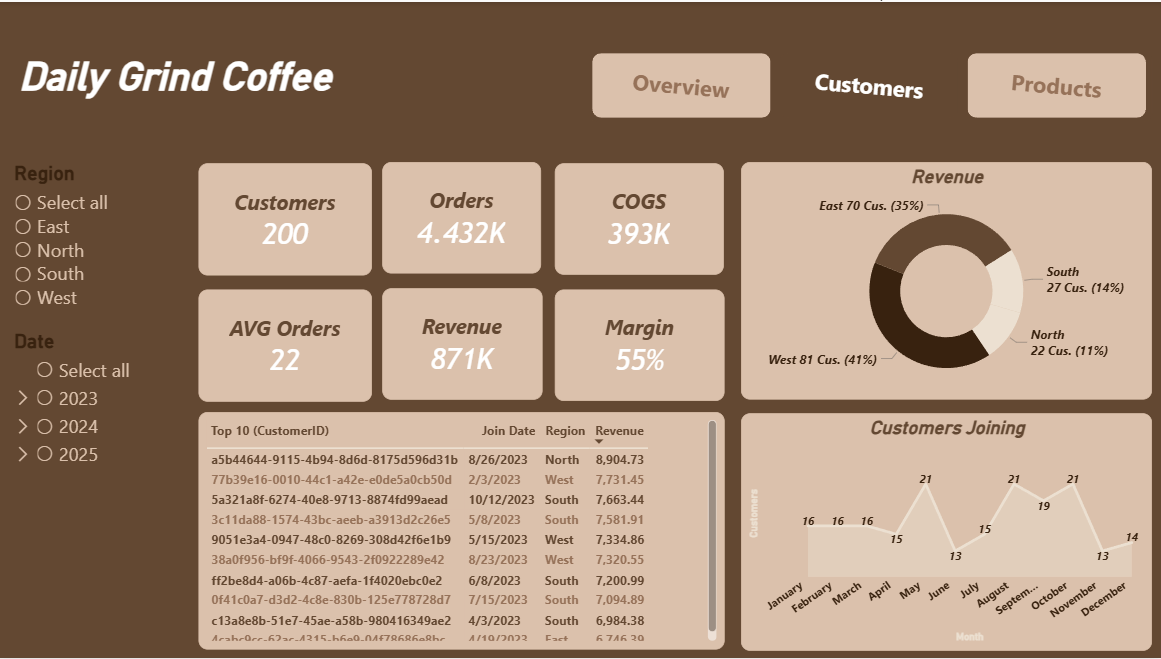

What the dashboard file says about the page in this screenshot:
{"tool":"powerbi","page":{"name":"Customers","canvas":[1280,720],"ordinal":1},"visuals":[{"type":"cardVisual","fields":{"Data":["Count(Daily_Grind_Coffee.CustomerID)"]},"box":[222.3,177,190.7,123.5],"z":2000},{"type":"cardVisual","fields":{"Data":["CountNonNull(Daily_Grind_Coffee.OrderID)"]},"box":[424,175.6,174.3,122.1],"z":3000},{"type":"cardVisual","fields":{"Data":["Daily_Grind_Coffee.AVG Orders"]},"box":[222.3,315.6,190.7,123.5],"z":4000},{"type":"cardVisual","fields":{"Data":["Sum(Daily_Grind_Coffee.Cleaned Revenue)"]},"box":[424,314.2,175.6,122.1],"z":5000},{"type":"cardVisual","fields":{"Data":["Sum(Daily_Grind_Coffee.COGS)"]},"box":[613.4,177,185.2,122.1],"z":6000},{"type":"cardVisual","fields":{"Data":["Daily_Grind_Coffee.Margin"]},"box":[613.4,315.6,186.6,122.1],"z":7000},{"type":"pivotTable","fields":{"Values":["Min(Daily_Grind_Coffee.CustomerJoinDate)","Min(Daily_Grind_Coffee.Region)","Sum(Daily_Grind_Coffee.Cleaned Revenue)"],"Rows":["Daily_Grind_Coffee.CustomerID"]},"box":[222.3,450.1,577.7,260.7],"z":8000},{"type":"donutChart","title":"Revenue","fields":{"Category":["Daily_Grind_Coffee.Region"],"Y":["Count(Daily_Grind_Coffee.CustomerID)"]},"box":[817.9,176.2,451.2,260.7],"z":9000},{"type":"areaChart","title":"Customers Joining","fields":{"Category":["Daily_Grind_Coffee.CustomerJoinDate.Variation.Date Hierarchy.Year","Daily_Grind_Coffee.CustomerJoinDate.Variation.Date Hierarchy.Quarter","Daily_Grind_Coffee.CustomerJoinDate.Variation.Date Hierarchy.Month","Daily_Grind_Coffee.CustomerJoinDate.Variation.Date Hierarchy.Day"],"Y":["Count(Daily_Grind_Coffee.CustomerID)"]},"box":[817.9,451.2,451.2,260.7],"z":10000},{"type":"pageNavigator","title":"n","box":[650.4,52.1,618.9,79.6],"z":11000},{"type":"textbox","box":[20.6,52.1,558.5,149.6],"z":12000},{"type":"listSlicer","fields":{"Values":["Daily_Grind_Coffee.Region"]},"box":[15.1,175.6,222.3,273.1],"z":12001},{"type":"listSlicer","title":"Date","fields":{"Values":["Daily_Grind_Coffee.OrderDate.Variation.Date Hierarchy.Year","Daily_Grind_Coffee.OrderDate.Variation.Date Hierarchy.Quarter","Daily_Grind_Coffee.OrderDate.Variation.Date Hierarchy.Month","Daily_Grind_Coffee.OrderDate.Variation.Date Hierarchy.Day"]},"box":[15.1,359.5,222.3,319.7],"z":12002}]}

Visuals, with their boxes in screenshot pixels (x1, y1, x2, y2), scaled from the page's 1280x720 canvas onto the 1161x659 screenshot:
cardVisual - Count(Daily_Grind_Coffee.CustomerID): box(202, 162, 375, 275)
cardVisual - CountNonNull(Daily_Grind_Coffee.OrderID): box(385, 161, 543, 272)
cardVisual - Daily_Grind_Coffee.AVG Orders: box(202, 289, 375, 402)
cardVisual - Sum(Daily_Grind_Coffee.Cleaned Revenue): box(385, 288, 544, 399)
cardVisual - Sum(Daily_Grind_Coffee.COGS): box(556, 162, 724, 274)
cardVisual - Daily_Grind_Coffee.Margin: box(556, 289, 726, 401)
pivotTable - Min(Daily_Grind_Coffee.CustomerJoinDate) x Min(Daily_Grind_Coffee.Region): box(202, 412, 726, 651)
"Revenue" donutChart: box(742, 161, 1151, 400)
"Customers Joining" areaChart: box(742, 413, 1151, 652)
"n" pageNavigator: box(590, 48, 1151, 121)
textbox: box(19, 48, 525, 185)
listSlicer - Daily_Grind_Coffee.Region: box(14, 161, 215, 411)
"Date" listSlicer: box(14, 329, 215, 622)
